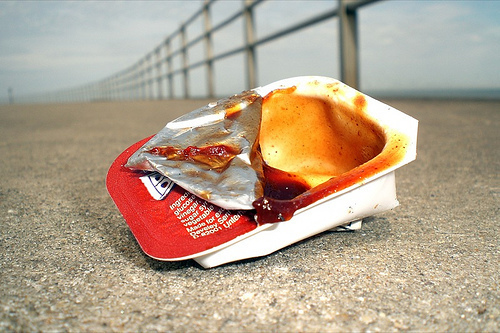litter: (104, 74, 419, 269)
